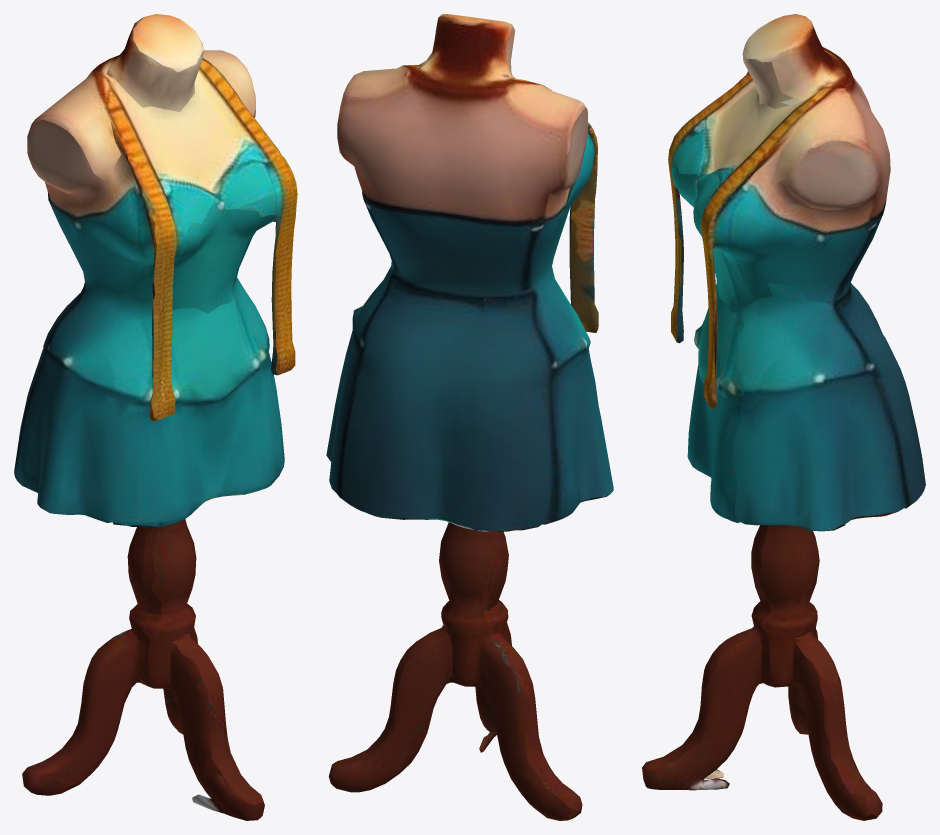
File: dress_form.glb
3 renders of one model, left to right at view 1: azimuth 30°, elevation 25°; view 2: azimuth 150°, elevation 25°; view 3: azimuth 270°, elevation 25°, orthographic.
Visible parts, largest first — view 1: dress_form2; view 2: dress_form2; view 3: dress_form2.
Part boxes in pixels (x1=…): dress_form2: x1=14, y1=14, x2=297, y2=820; dress_form2: x1=326, y1=14, x2=613, y2=820; dress_form2: x1=642, y1=14, x2=925, y2=820.
Bounding box in the file's own units: 0.346 × 1 × 0.3401.
Materials: 1 (1 with a texture image).
